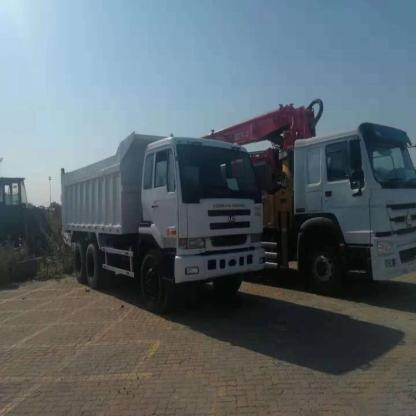dump_truck: (53, 127, 269, 313), (292, 113, 416, 312)
